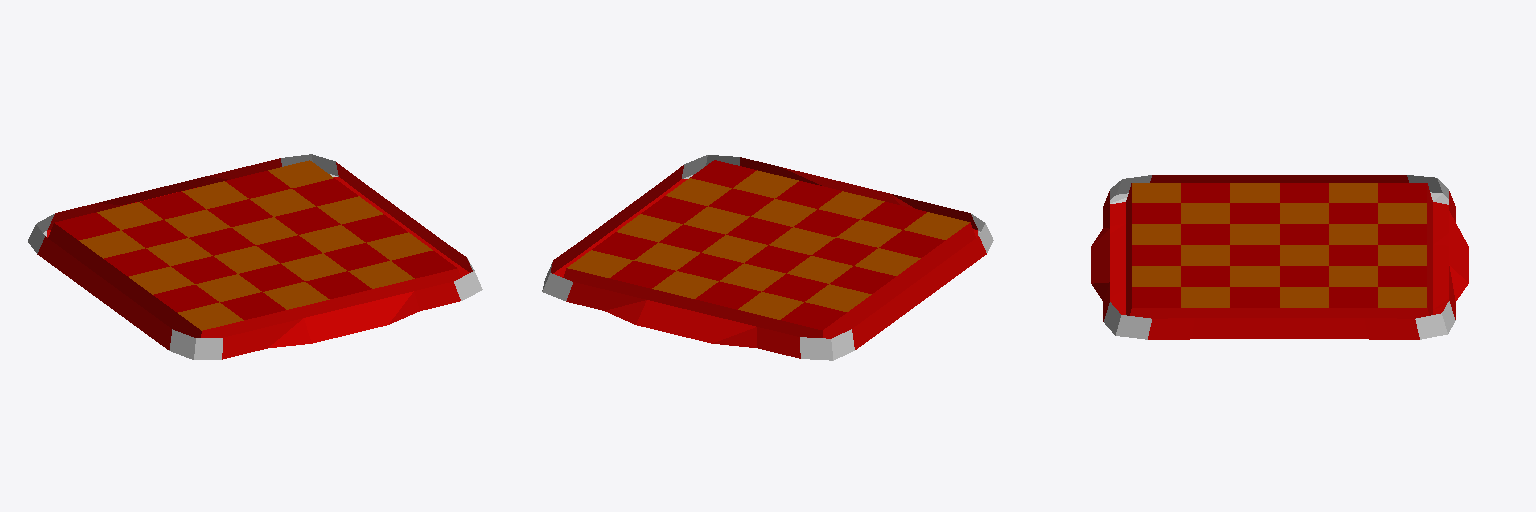
The model's file is tray.obj.
3 renders of one model, left to right at view 1: azimuth 30°, elevation 25°; view 2: azimuth 150°, elevation 25°; view 3: azimuth 270°, elevation 25°, orthographic.
Parts seen in each view (by area): view 1: Plane.002_Plane.003; view 2: Plane.002_Plane.003; view 3: Plane.002_Plane.003.
Boxes of the visible parts, <box> form: Plane.002_Plane.003: <box>28,154,482,359</box>; Plane.002_Plane.003: <box>542,155,993,360</box>; Plane.002_Plane.003: <box>1091,175,1468,339</box>.
Bounding box in the file's own units: 400 × 26.81 × 428.